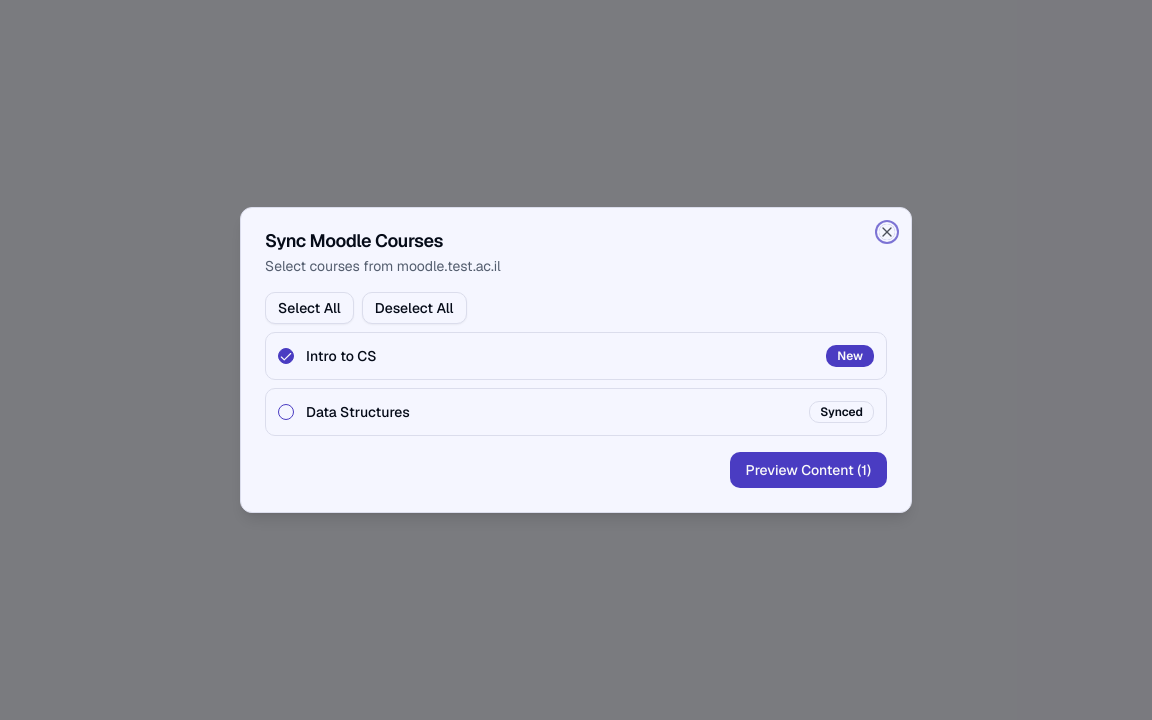
MoodleSyncDialog › toggles course selection when checkbox is clicked
The width and height of the screenshot is (1152, 720).
Expected: the text "Intro to CS" is shown, [306, 347, 376, 365]
Click the checkbox named "select data structures" at (286, 412), box [278, 404, 294, 420]
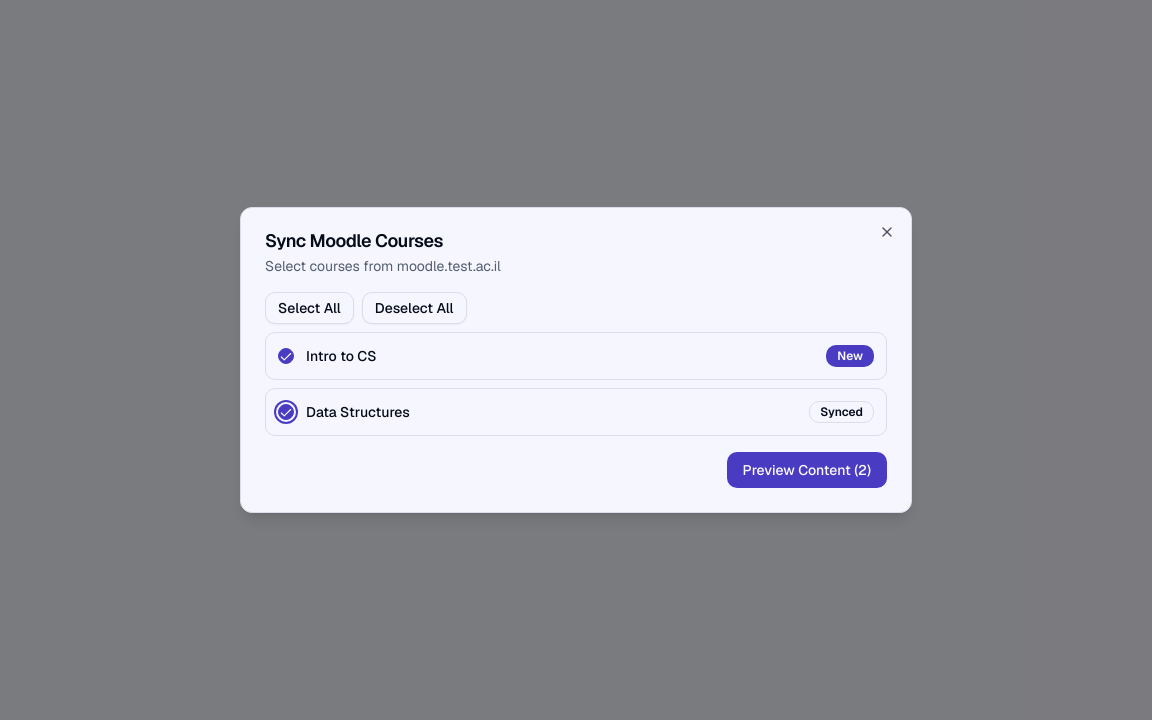
Result: the button "Preview Content (2)" is shown at [727, 452, 887, 488]
